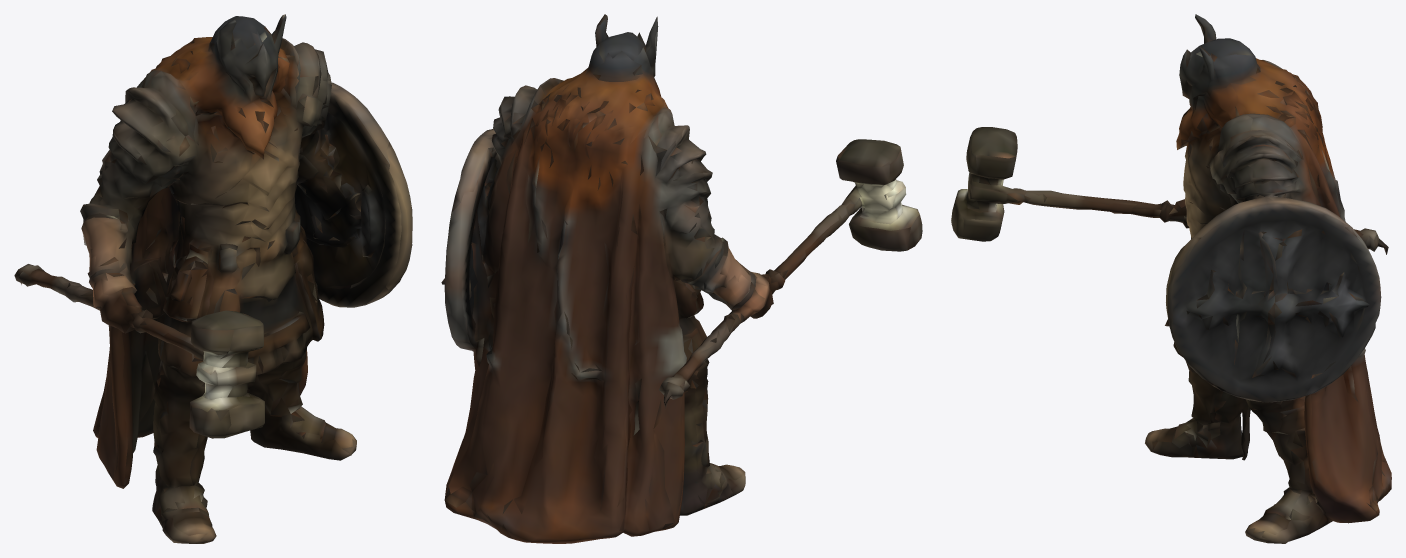
The model's file is Malleth_final.glb.
3 views of the same model, side by side, from view 1: azimuth 30°, elevation 25°; view 2: azimuth 150°, elevation 25°; view 3: azimuth 270°, elevation 25° (orthographic). The views are drawn at different scales.
Visible parts, largest first — view 1: Mesh1.0; view 2: Mesh1.0; view 3: Mesh1.0.
Boxes of the visible parts, x1,y1,x2,y2 form: Mesh1.0: [14, 14, 412, 543]; Mesh1.0: [441, 14, 922, 543]; Mesh1.0: [951, 14, 1391, 543].
Bounding box in the file's own units: 1.22 × 1.8 × 1.56.
1 material, 1 textured.
